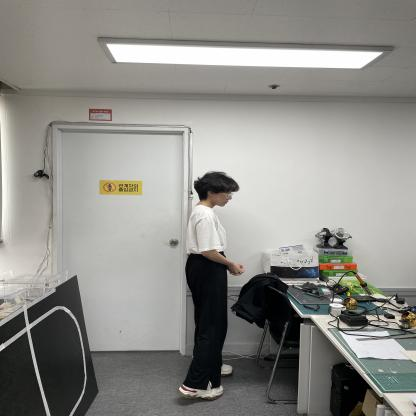normal: (180, 169, 247, 402)
